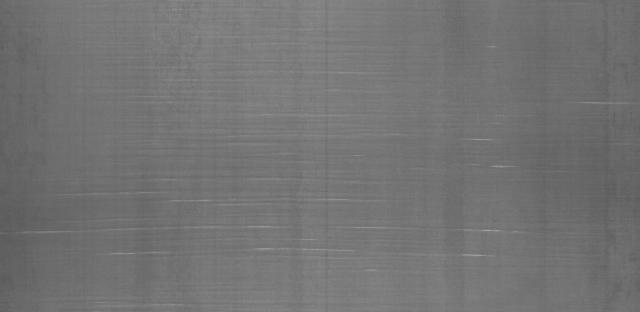waist_folding: (49, 16, 493, 277)
